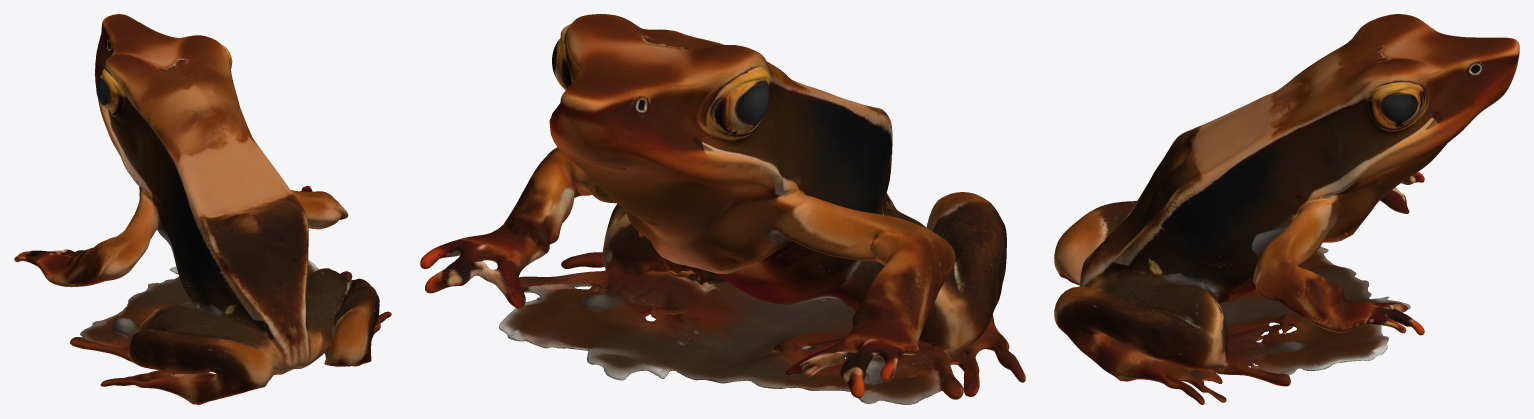
The model's file is leptodactylus-savagei.glb.
3 renders of one model, left to right at view 1: azimuth 30°, elevation 25°; view 2: azimuth 150°, elevation 25°; view 3: azimuth 270°, elevation 25°, orthographic. The views are drawn at different scales.
Visible parts, largest first — view 1: tripo_node_01c816b6-d6ed-4a54-a945-168360a09774; view 2: tripo_node_01c816b6-d6ed-4a54-a945-168360a09774; view 3: tripo_node_01c816b6-d6ed-4a54-a945-168360a09774.
Part boxes in pixels (bbox=[...]): tripo_node_01c816b6-d6ed-4a54-a945-168360a09774: bbox=[14, 14, 391, 404]; tripo_node_01c816b6-d6ed-4a54-a945-168360a09774: bbox=[420, 14, 1025, 404]; tripo_node_01c816b6-d6ed-4a54-a945-168360a09774: bbox=[1054, 14, 1519, 404].
Bounding box in the file's own units: 0.8562 × 0.6983 × 1.
1 material, 1 textured.
